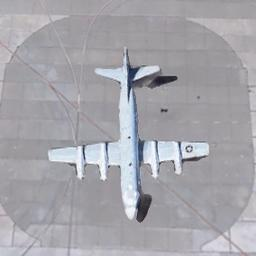Airplane: (47, 45, 209, 222)
